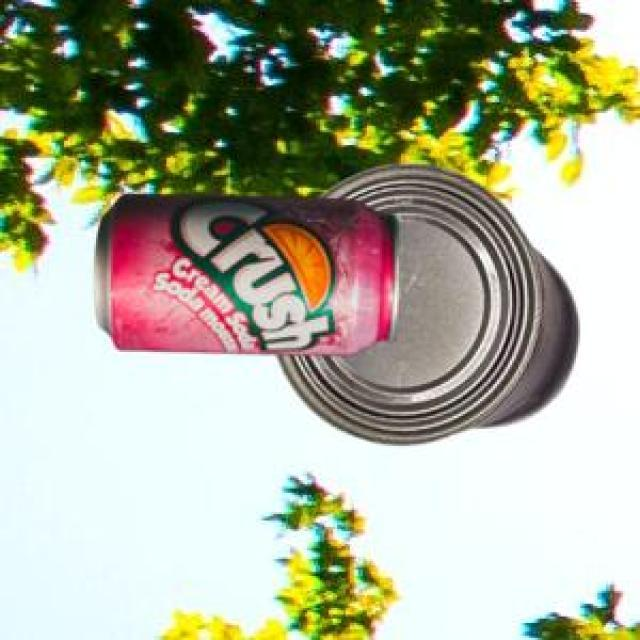Can: (274, 161, 575, 443), (91, 191, 396, 353)
